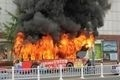fire: (11, 29, 95, 68)
